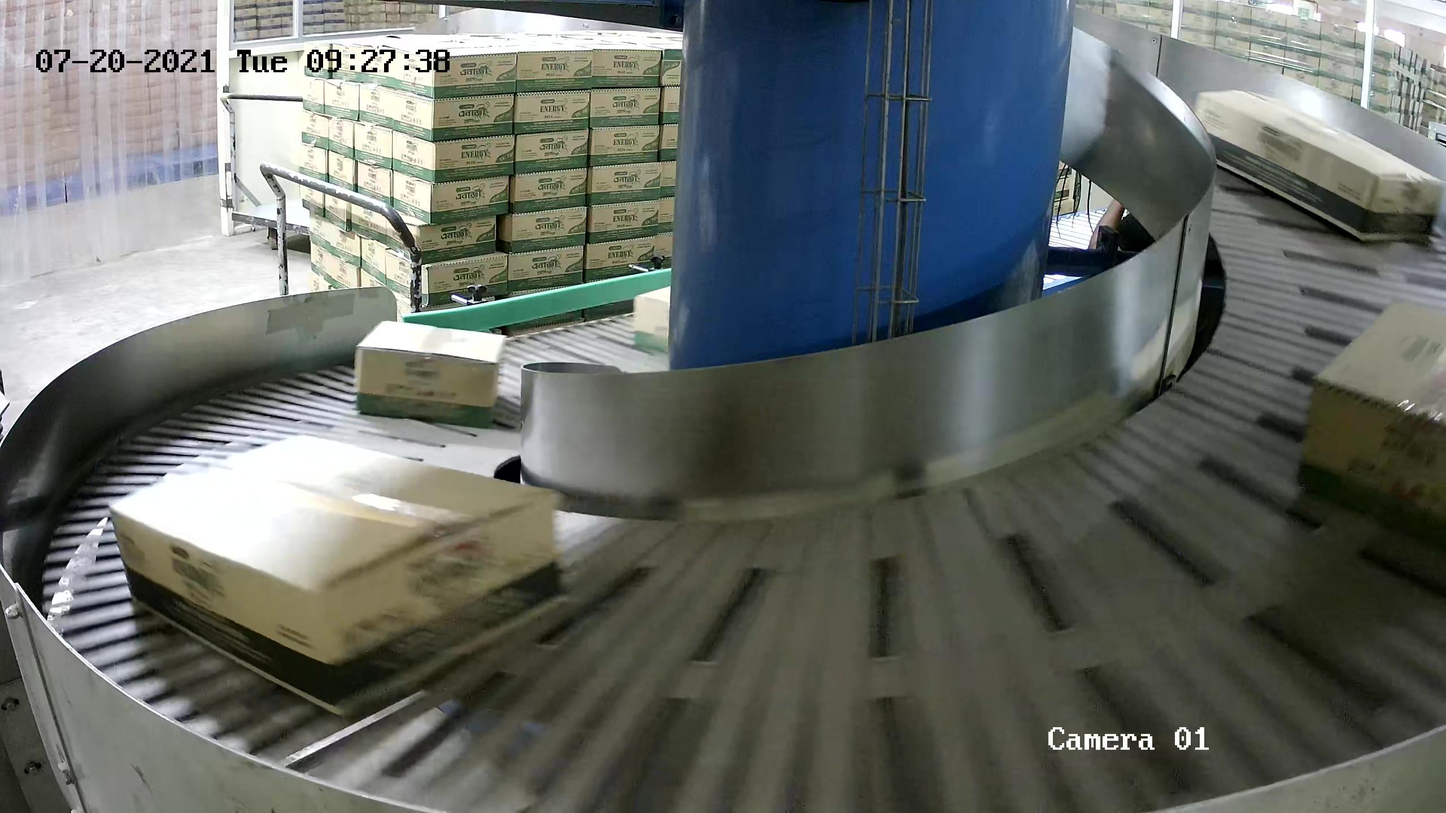Box: (112, 433, 568, 714), (1195, 87, 1446, 248), (1293, 296, 1446, 559), (352, 319, 509, 430)
